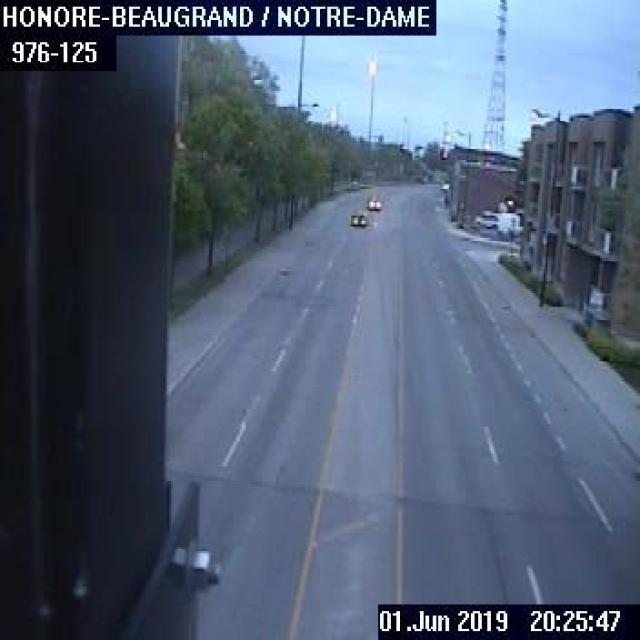vehicle: (473, 209, 498, 227), (347, 210, 368, 227), (364, 193, 381, 209)
